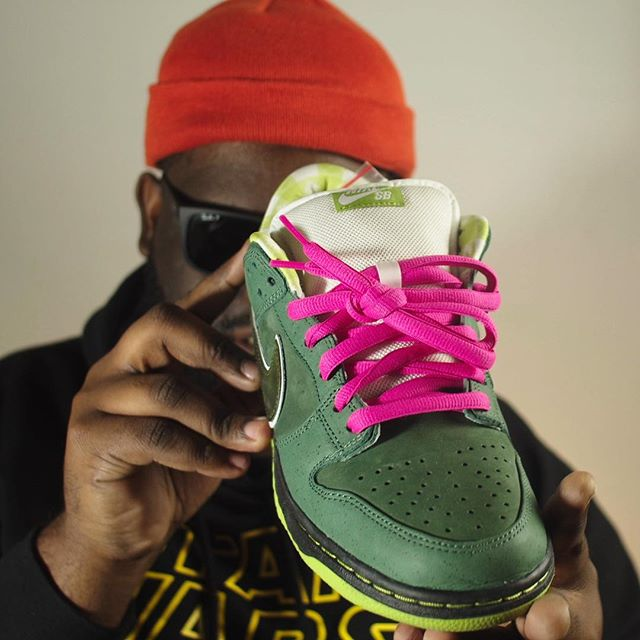Nike SB Dunk Green Lobster: (201, 151, 565, 635)
